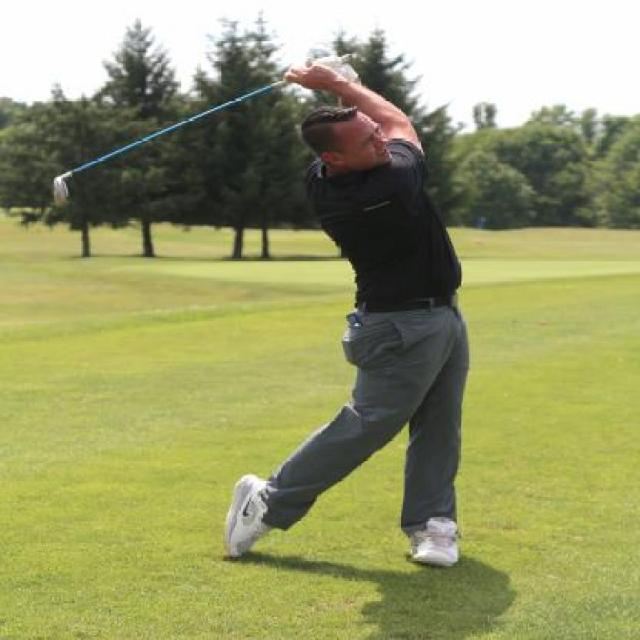club head: (51, 168, 77, 207)
